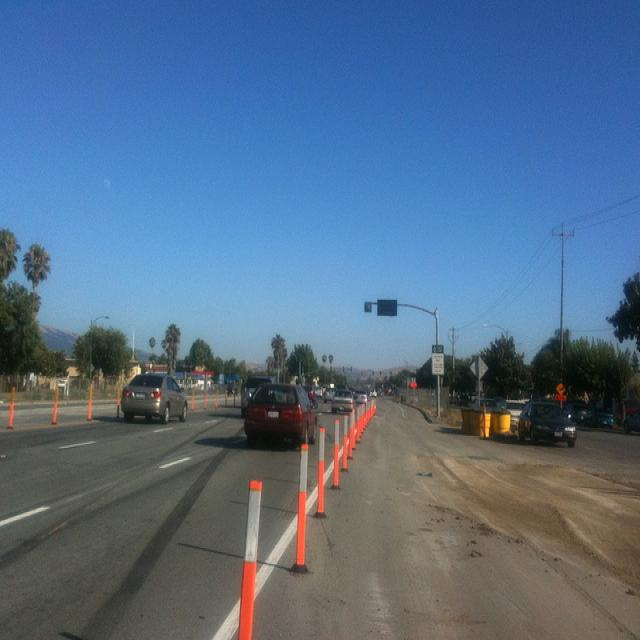Vehicle: (244, 382, 318, 449), (121, 373, 188, 422), (517, 402, 576, 448), (240, 376, 277, 418), (500, 398, 526, 426), (331, 390, 356, 414), (582, 408, 612, 427), (474, 400, 498, 413), (323, 388, 337, 403), (355, 388, 368, 404)
